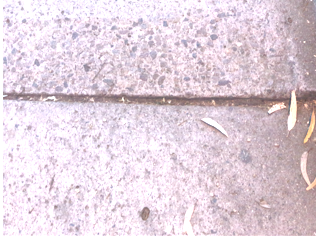Uplift: (122, 92, 318, 111)
